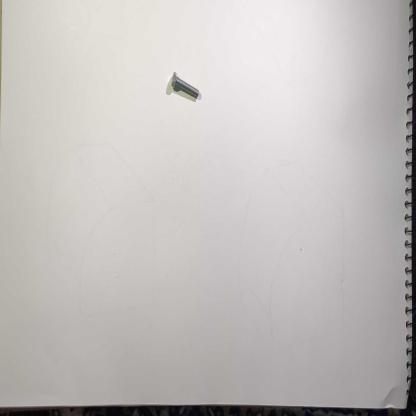Bolts: (169, 66, 201, 106)
